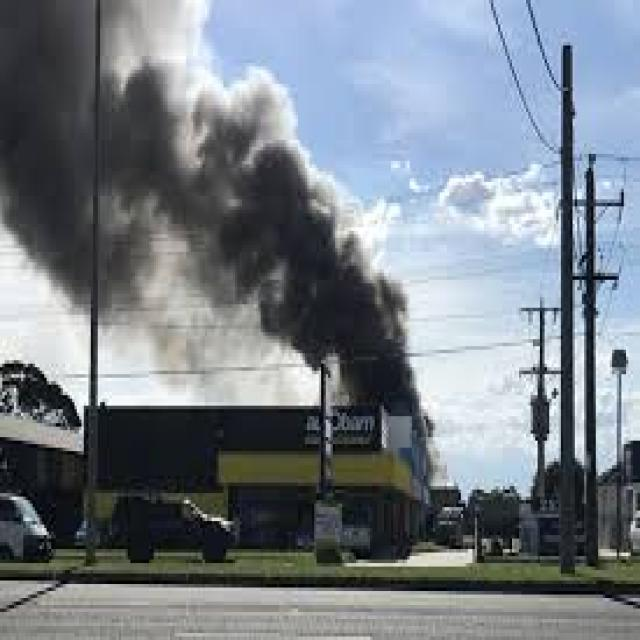Smoke: (0, 0, 422, 402)
